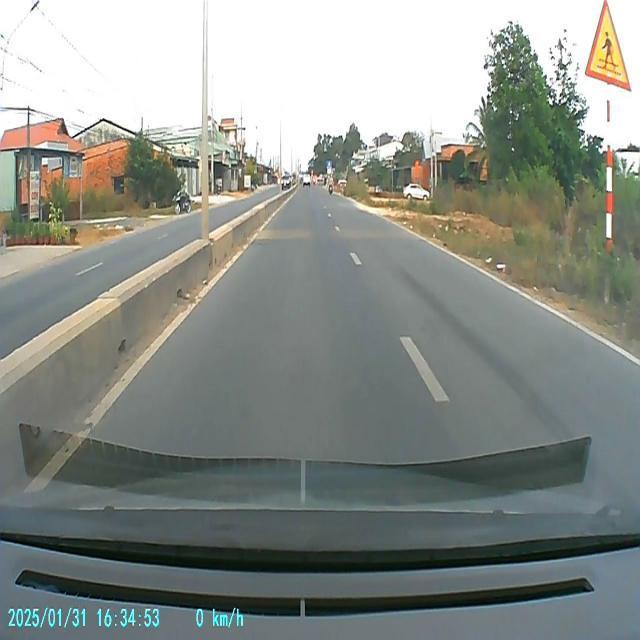224-duong-nguoi-di-bo-cat-ngang: (583, 1, 632, 93)
